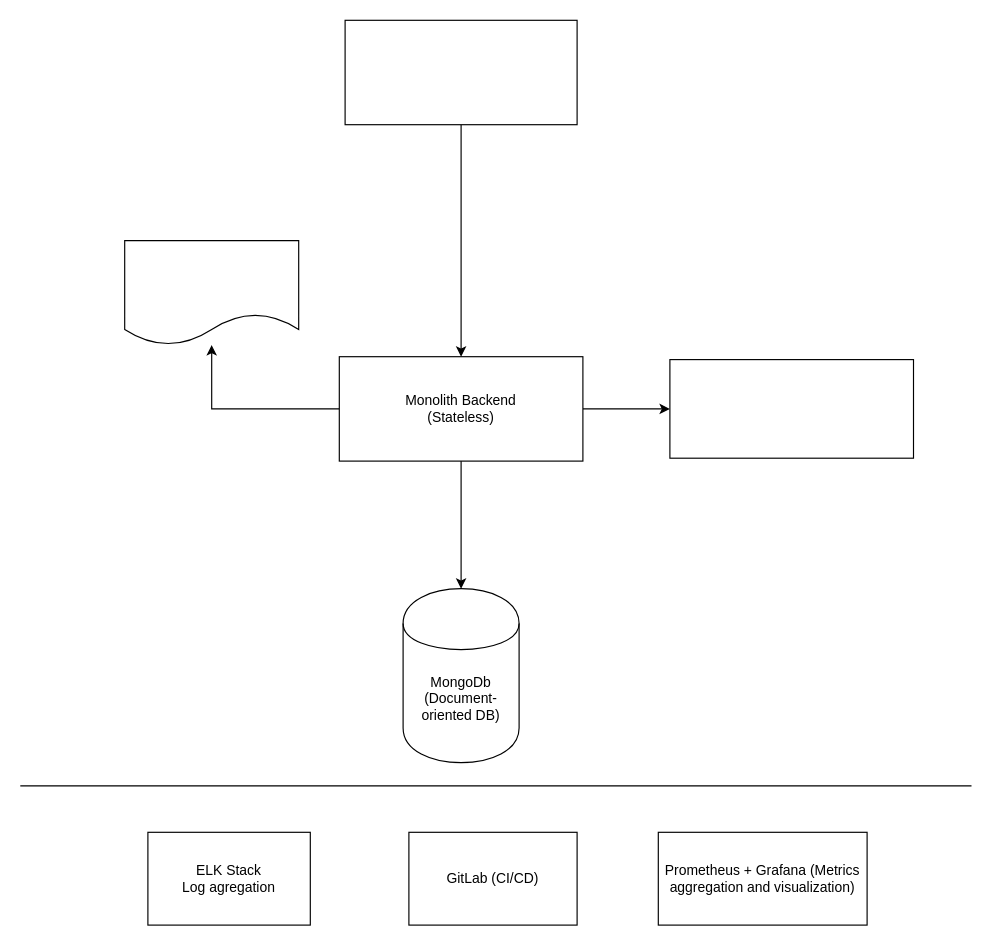
Some shapes in this 993 by 945 pixel diagram are drawn without their labels. The box of each missing label's shape, as (x1, y1, x2, y2) in pixels:
Cache (Redis): (124, 240, 299, 345)
Embedded Keycloak: (669, 358, 913, 458)
Frontend + Nginx Gateway: (344, 19, 577, 125)
